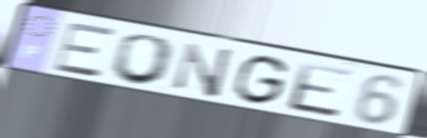6: (348, 71, 408, 129)
E: (286, 59, 357, 121), (50, 21, 117, 80)
G: (231, 54, 292, 108)
N: (171, 40, 236, 101)
O: (107, 32, 179, 89)
